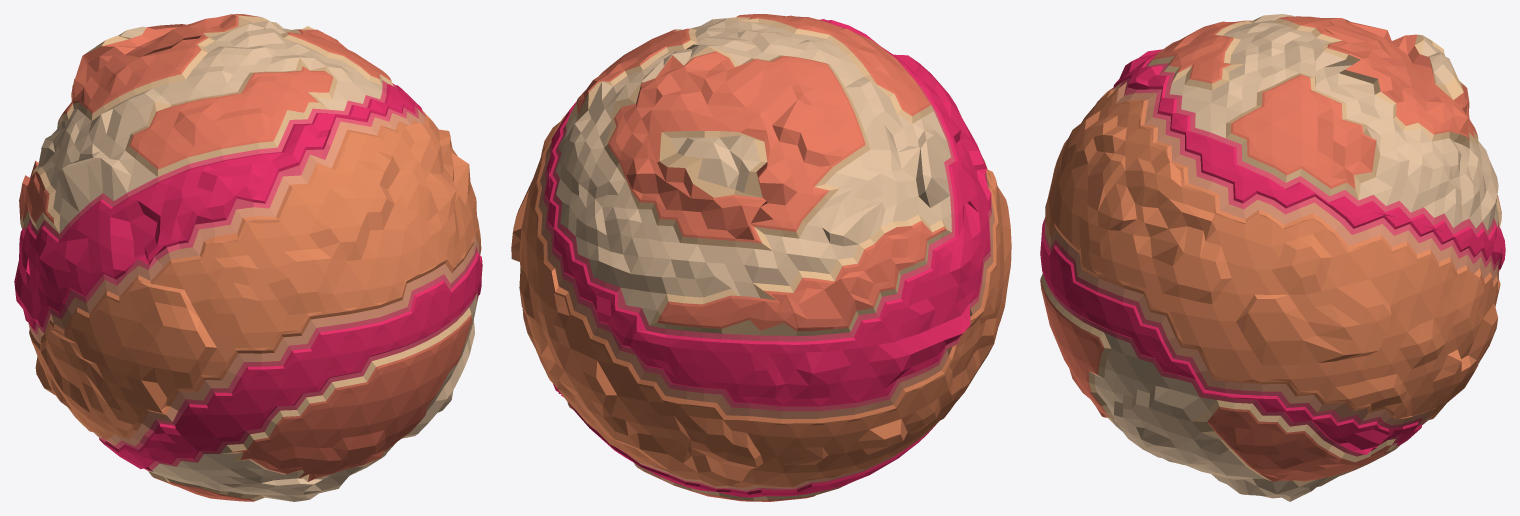
Rendered from marsplanet.fbx.
3 renders of one model, left to right at view 1: azimuth 30°, elevation 25°; view 2: azimuth 150°, elevation 25°; view 3: azimuth 270°, elevation 25°, orthographic. The views are drawn at different scales.
Parts seen in each view (by area): view 1: Icosphere.001; view 2: Icosphere.001; view 3: Icosphere.001.
Part boxes in pixels (left/top/right/bottom): Icosphere.001: left=14, top=14, right=482, bottom=501; Icosphere.001: left=511, top=14, right=1011, bottom=501; Icosphere.001: left=1040, top=14, right=1505, bottom=501.
Size of the model in its own units: 205 by 211 by 203.
